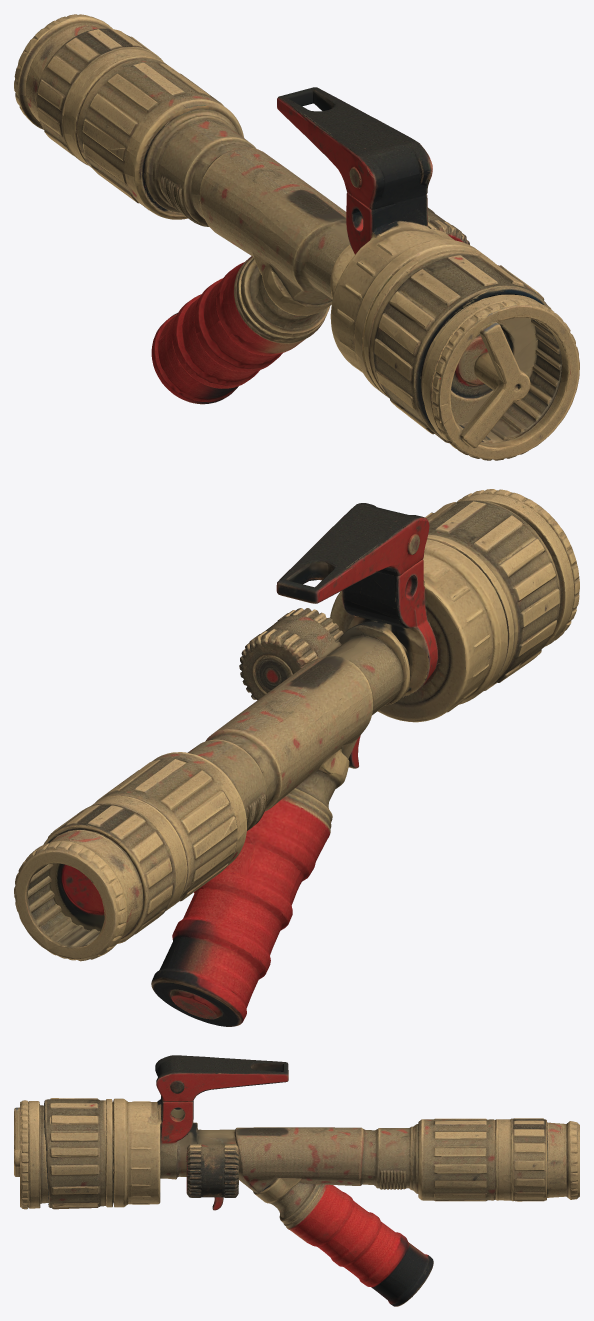
The model's file is lancia_A.glb.
3 views of the same model, one above another, from view 1: azimuth 30°, elevation 25°; view 2: azimuth 150°, elevation 25°; view 3: azimuth 270°, elevation 25° (orthographic). The views are drawn at different scales.
Parts seen in each view (by area): view 1: lancia; view 2: lancia; view 3: lancia.
Part boxes in pixels (x1,y1,x2,y2): lancia: (14,14,579,460); lancia: (14,489,579,1026); lancia: (14,1055,579,1306).
Size of the model in its own units: 0.138 by 0.2906 by 0.62.
1 material, 1 textured.
